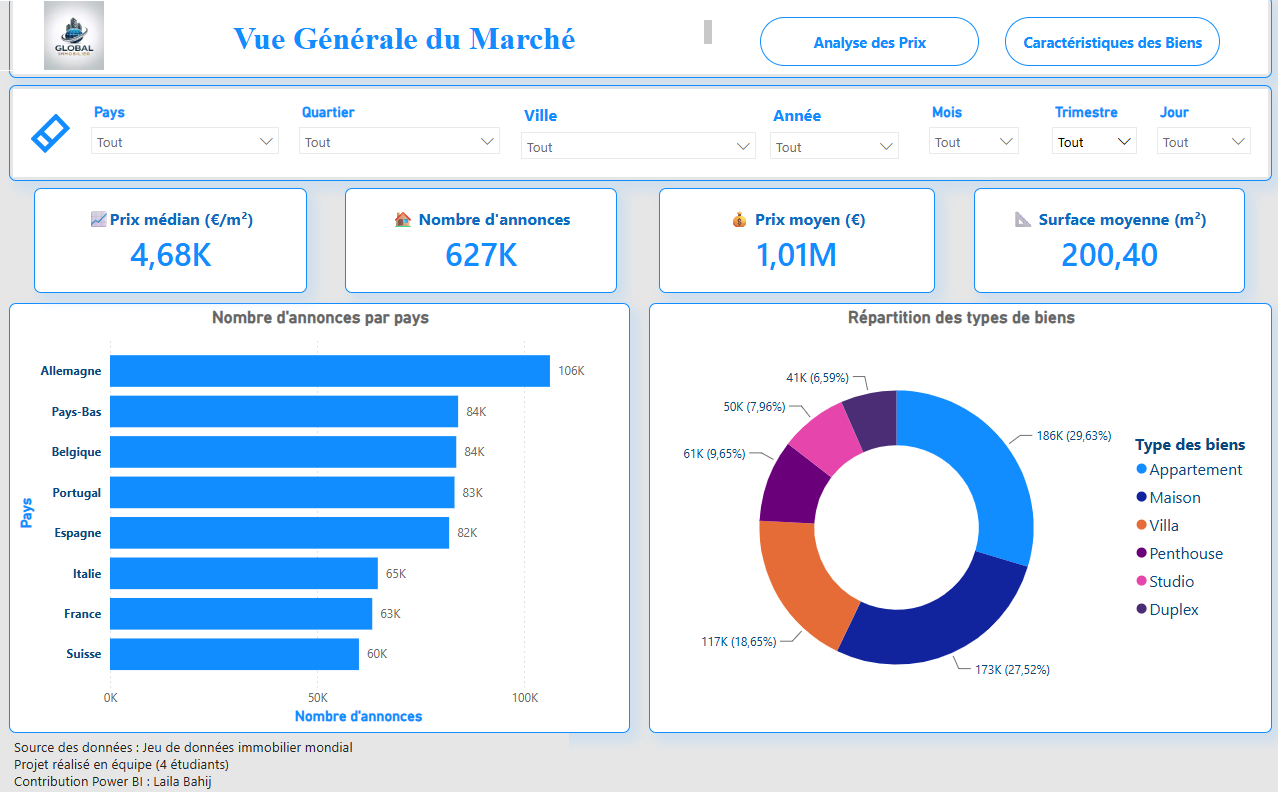

The page's visual inventory and layout, read from the dashboard file:
{"tool":"powerbi","page":{"name":"Vue Générale du Marché","canvas":[1280,800],"ordinal":0},"visuals":[{"type":"shape","box":[10,0,1263,82],"z":0},{"type":"shape","box":[10,89,1263,96],"z":1000},{"type":"textbox","box":[100,19.4,617.7,39.8],"z":2000},{"type":"actionButton","box":[761,21,219,49],"z":3000},{"type":"actionButton","box":[1006,21,215,49],"z":4000},{"type":"image","box":[0,3.9,149.6,70.9],"z":5000},{"type":"cardVisual","fields":{"Data":["FACT_LISTING.Nb Annonces"]},"box":[346,192,272,105],"z":6000},{"type":"cardVisual","fields":{"Data":["FACT_LISTING.Prix Moyen"]},"box":[660,192,276,105],"z":7000},{"type":"cardVisual","fields":{"Data":["FACT_LISTING.Surface Moyenne"]},"box":[975,192,271,105],"z":8000},{"type":"barChart","title":"Nombre d''annonces par pays","fields":{"Y":["FACT_LISTING.Nb Annonces"],"Category":["DIM_LOCATION.PAYS_FR"]},"box":[10,307,621,430],"z":9000},{"type":"donutChart","title":"Répartition des types de biens","fields":{"Y":["FACT_LISTING.Nb Annonces"],"Category":["DIM_PROPERTY.Type_Bien_FR"]},"box":[650,307,623,430],"z":10000},{"type":"slicer","fields":{"Values":["DIM_LOCATION.COUNTRY"]},"box":[82,103,208,68],"z":11000},{"type":"slicer","fields":{"Values":["DIM_LOCATION.NEIGHBORHOOD"]},"box":[290,103,221,68],"z":12000},{"type":"slicer","fields":{"Values":["DIM_LOCATION.CITY"]},"box":[512,103,255,68],"z":13000},{"type":"slicer","fields":{"Values":["DIM_DATE.MONTH"]},"box":[920,103,110,68],"z":14000},{"type":"slicer","fields":{"Values":["DIM_DATE.YEAR"]},"box":[761,103,149,68],"z":15000},{"type":"slicer","fields":{"Values":["DIM_DATE.QUARTER"]},"box":[1043,103,105,68],"z":16000},{"type":"slicer","fields":{"Values":["DIM_DATE.DAY"]},"box":[1148,103,114,68],"z":17000},{"type":"cardVisual","fields":{"Data":["FACT_LISTING.Prix Médian m²"]},"box":[35,192,273,105],"z":18000},{"type":"textbox","box":[10,737,560,63],"z":19000},{"type":"actionButton","box":[28,112,47,50],"z":20000}]}

Visuals, with their boxes in screenshot pixels (x1, y1, x2, y2), scaled from the page's 1280x800 canvas onto the 1278x792 screenshot:
shape: 10,0,1271,81
shape: 10,88,1271,183
textbox: 100,19,717,59
actionButton: 760,21,978,69
actionButton: 1004,21,1219,69
image: 0,4,149,74
cardVisual - FACT_LISTING.Nb Annonces: 345,190,617,294
cardVisual - FACT_LISTING.Prix Moyen: 659,190,935,294
cardVisual - FACT_LISTING.Surface Moyenne: 973,190,1244,294
"Nombre d''annonces par pays" barChart: 10,304,630,730
"Répartition des types de biens" donutChart: 649,304,1271,730
slicer - DIM_LOCATION.COUNTRY: 82,102,290,169
slicer - DIM_LOCATION.NEIGHBORHOOD: 290,102,510,169
slicer - DIM_LOCATION.CITY: 511,102,766,169
slicer - DIM_DATE.MONTH: 919,102,1028,169
slicer - DIM_DATE.YEAR: 760,102,909,169
slicer - DIM_DATE.QUARTER: 1041,102,1146,169
slicer - DIM_DATE.DAY: 1146,102,1260,169
cardVisual - FACT_LISTING.Prix Médian m²: 35,190,308,294
textbox: 10,730,569,791
actionButton: 28,111,75,160
